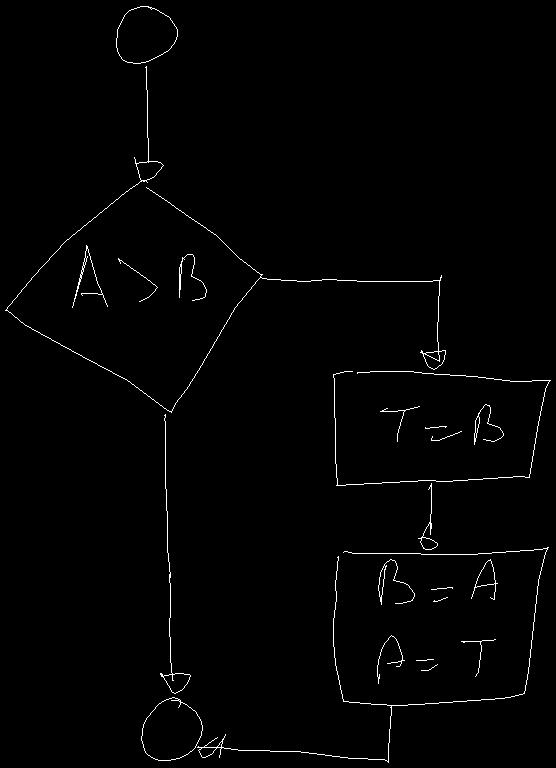arrow: (261, 275, 445, 369), (197, 706, 391, 762), (160, 414, 190, 693), (134, 66, 163, 181), (418, 483, 437, 549)
connection: (141, 697, 202, 760), (116, 6, 177, 63)
decision: (5, 180, 262, 412)
process: (333, 547, 548, 705), (333, 371, 550, 485)
text: (377, 559, 497, 683), (72, 245, 206, 307), (380, 404, 503, 444)
